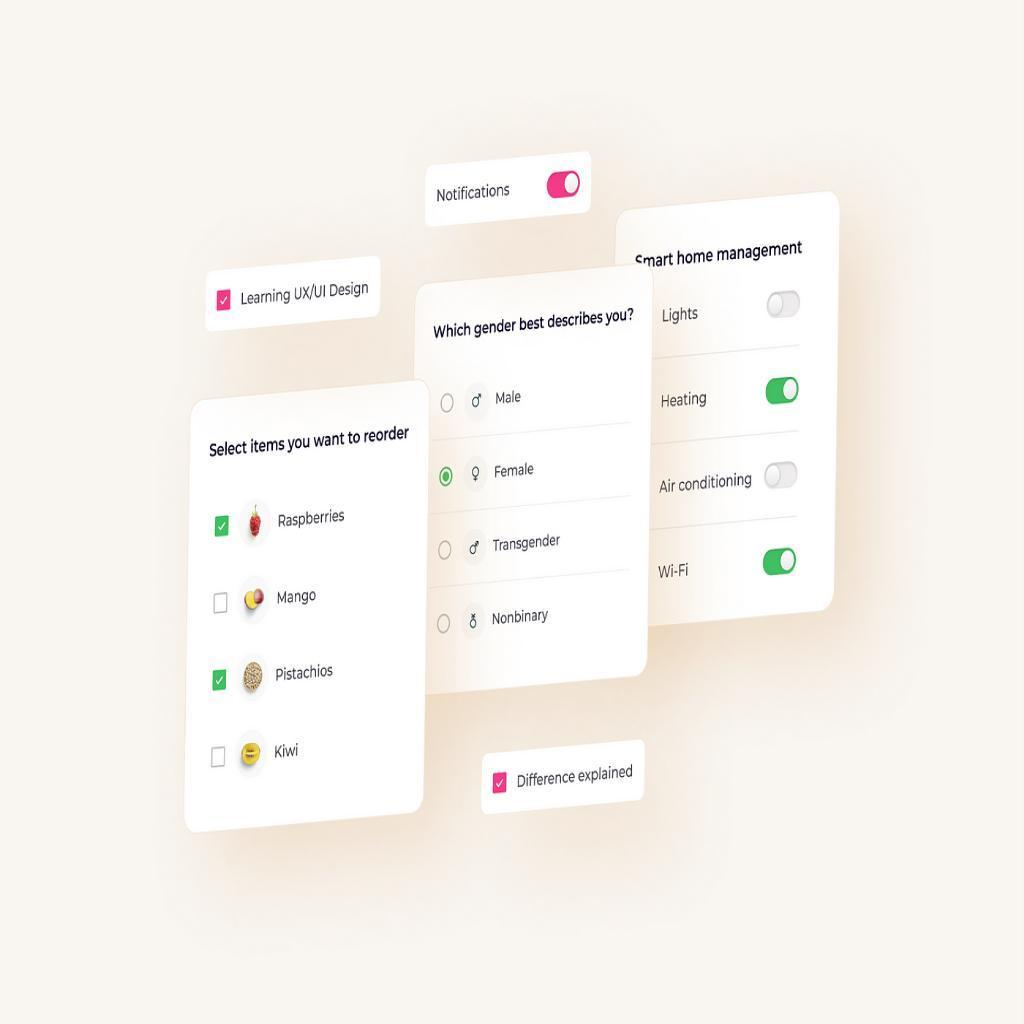checkbox: (211, 667, 232, 696), (212, 590, 232, 618), (210, 745, 231, 769), (492, 769, 510, 797), (217, 288, 235, 313), (215, 515, 233, 539)
radio: (436, 460, 460, 495), (434, 537, 459, 569), (434, 609, 457, 641), (440, 388, 459, 420)
switch: (761, 373, 802, 413), (766, 288, 806, 322), (764, 460, 802, 495), (765, 546, 800, 579), (547, 171, 581, 201)
